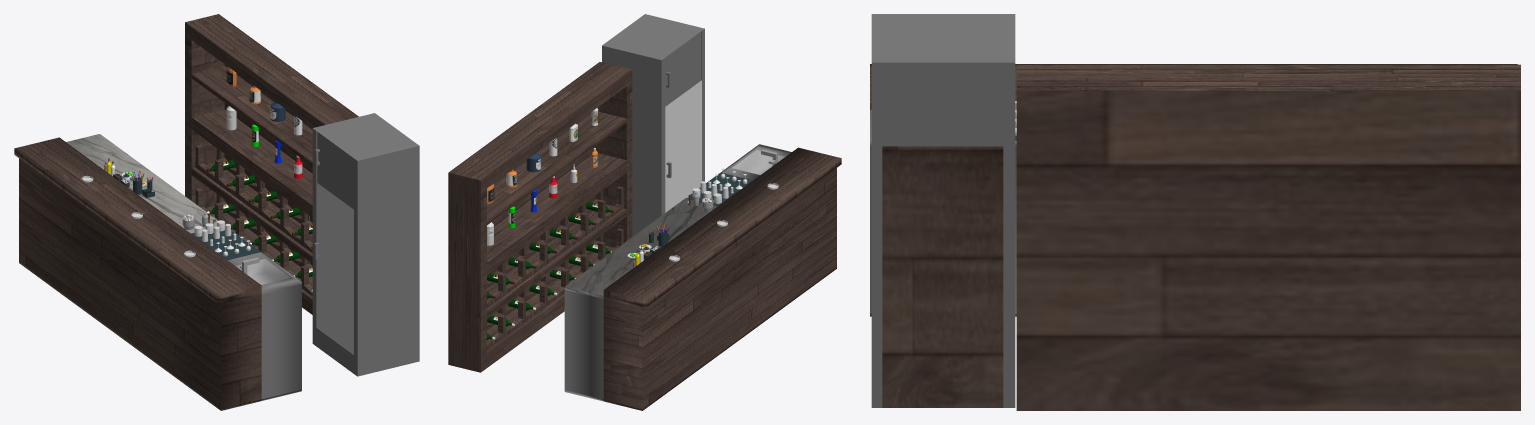
The model's file is DrinksBar.fbx.
The picture shows the model from 3 angles, left to right: view 1: azimuth 30°, elevation 25°; view 2: azimuth 150°, elevation 25°; view 3: azimuth 270°, elevation 25°; orthographic projection. The views are drawn at different scales.
Visible parts, largest first — view 1: Cube, Cube.001, Plane.005, Cube.003, Cube.005, Cube.025, Cube.004, Cube.006; view 2: Cube.001, Cube, Plane.005, Cube.003, Cube.005, Cube.004, Cube.006, Cube.025; view 3: Cube.001, Cube.
Part boxes in pixels (box(x1,y1,x2,y2)): Cube: box(14, 134, 301, 410); Cube.001: box(185, 14, 419, 376); Plane.005: box(314, 182, 353, 354); Cube.003: box(195, 144, 312, 252); Cube.005: box(195, 188, 312, 295); Cube.025: box(191, 228, 260, 259); Cube.004: box(216, 148, 312, 226); Cube.006: box(216, 194, 312, 268); Cube.001: box(448, 14, 704, 372); Cube: box(564, 144, 841, 410); Plane.005: box(665, 80, 701, 212); Cube.003: box(487, 186, 623, 308); Cube.005: box(487, 228, 623, 349); Cube.004: box(487, 190, 603, 288); Cube.006: box(487, 234, 603, 329); Cube.025: box(690, 172, 752, 205); Cube.001: box(871, 14, 1520, 410); Cube: box(870, 64, 1517, 316).
Size of the model in its own units: 550 by 553 by 941.
